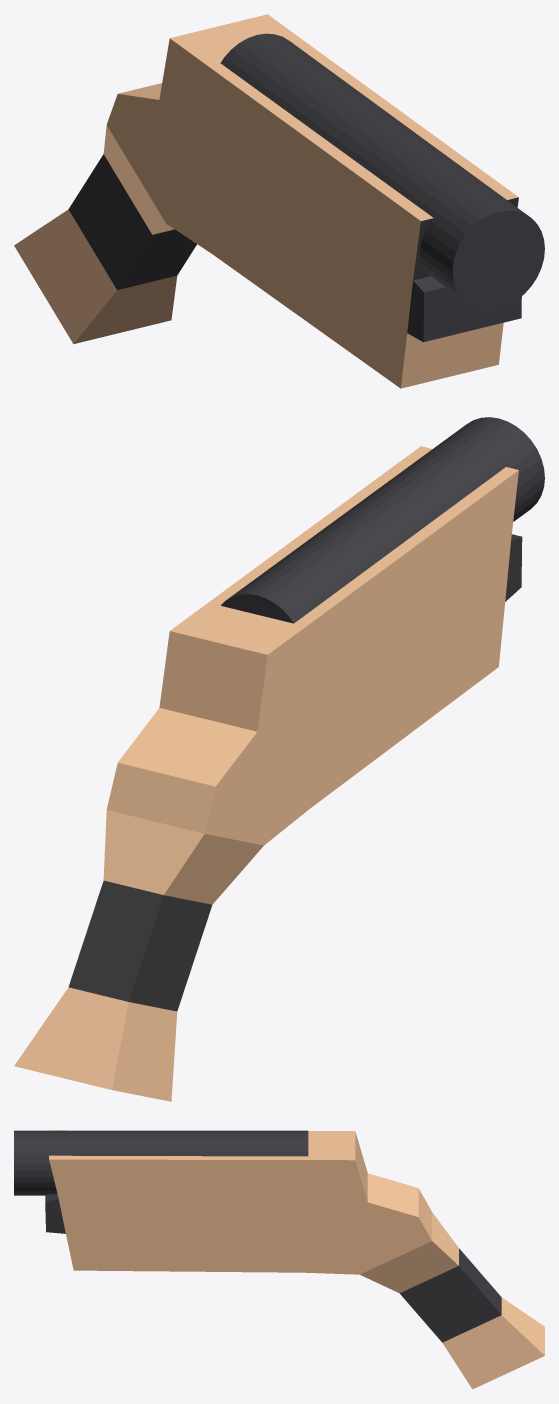
Rendered from grappling_gun.glb.
3 renders of one model, top to bottom at view 1: azimuth 30°, elevation 25°; view 2: azimuth 150°, elevation 25°; view 3: azimuth 270°, elevation 25°, orthographic. The views are drawn at different scales.
Visible parts, largest first — view 1: gun; view 2: gun; view 3: gun.
Boxes of the visible parts, x1,y1,x2,y2 form: gun: [14, 14, 544, 388]; gun: [14, 417, 544, 1101]; gun: [14, 1130, 544, 1389].
Bounding box in the file's own units: 0.0517 × 0.1996 × 0.3982.
